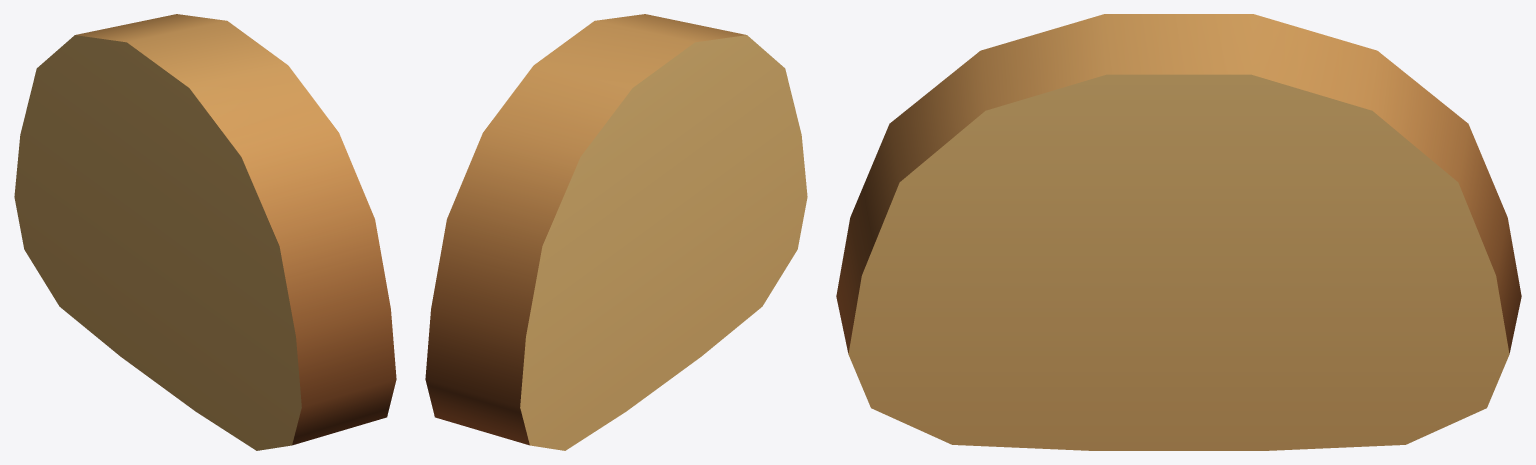
File: Bread_Round_Slice_01.glb
3 renders of one model, left to right at view 1: azimuth 30°, elevation 25°; view 2: azimuth 150°, elevation 25°; view 3: azimuth 270°, elevation 25°, orthographic. The views are drawn at different scales.
Visible parts, largest first — view 1: Bread_Round_Slice_01; view 2: Bread_Round_Slice_01; view 3: Bread_Round_Slice_01.
Boxes of the visible parts, box(x1,y1,x2,y2) form: Bread_Round_Slice_01: box(14, 14, 396, 450); Bread_Round_Slice_01: box(425, 14, 807, 450); Bread_Round_Slice_01: box(836, 14, 1521, 450).
Size of the model in its own units: 0.1123 by 0.343 by 0.5603.
Materials: 1 (1 with a texture image).
